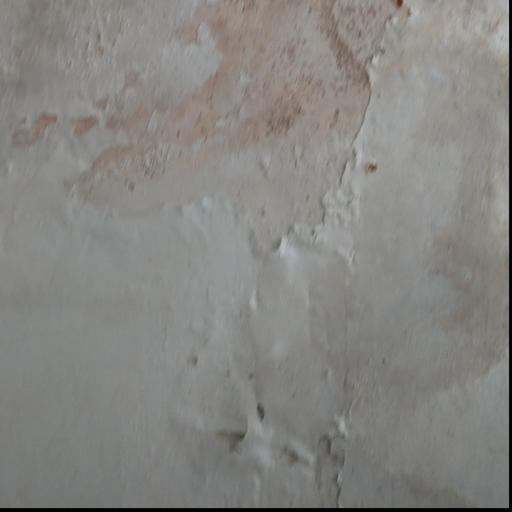peeling: (9, 0, 451, 285), (187, 334, 378, 512)
